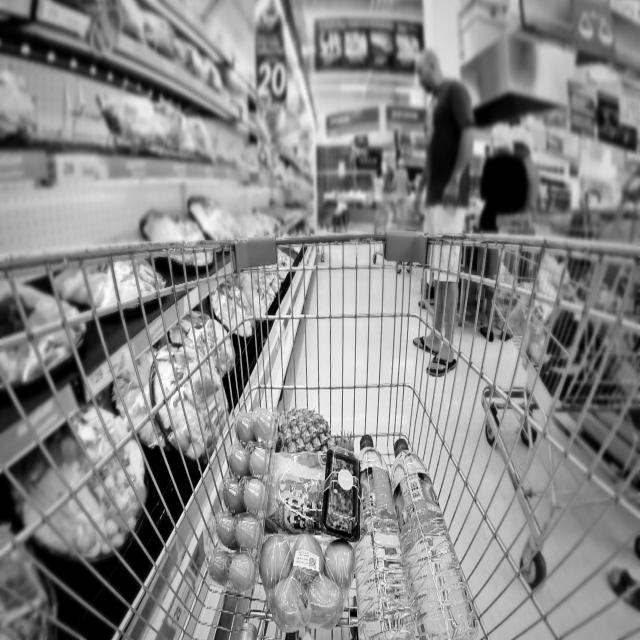dua: (276, 404, 352, 458)
tao: (258, 535, 356, 633)
trung: (210, 401, 277, 601)
